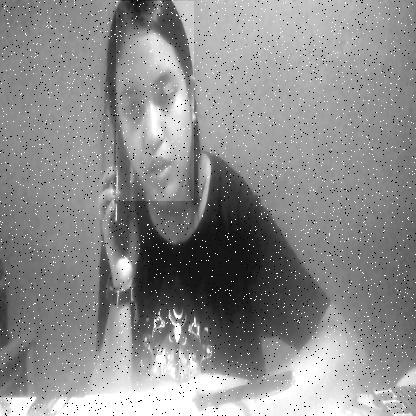Normal: (116, 1, 194, 201)
